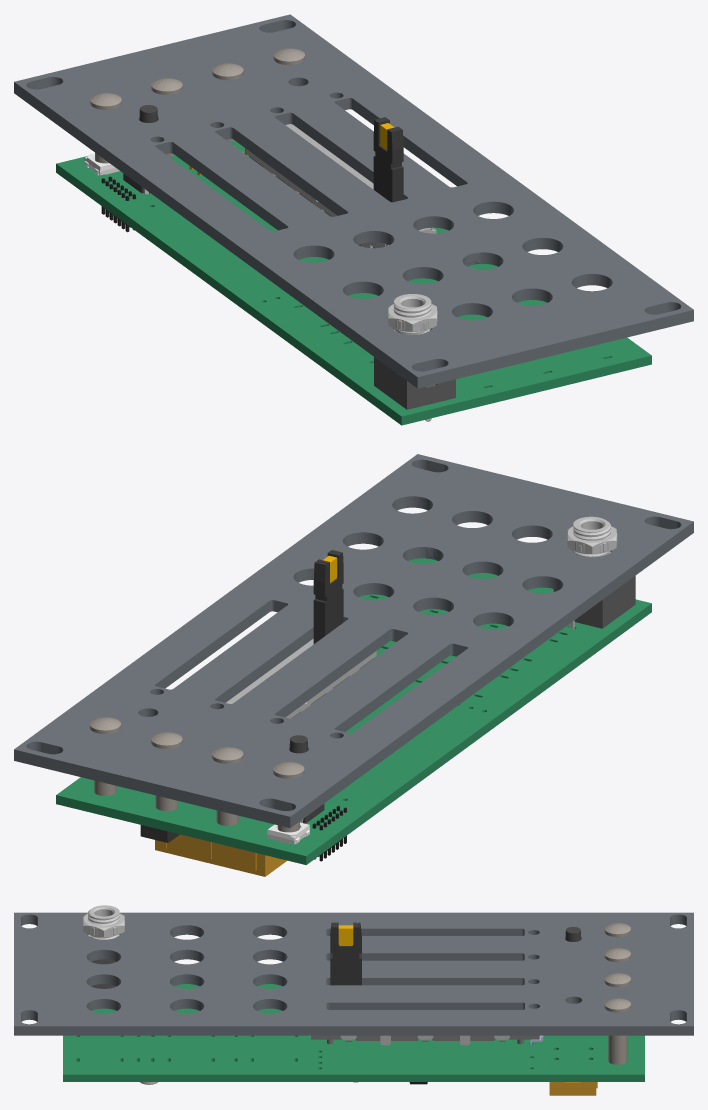
Rendered from aware01_h7_rev2_0_pcb_and_panel.3mf.dae.
The picture shows the model from 3 angles, top to bottom: view 1: azimuth 30°, elevation 25°; view 2: azimuth 150°, elevation 25°; view 3: azimuth 270°, elevation 25°; orthographic projection. The views are drawn at different scales.
Visible parts, largest first — view 1: node0, node6, node57, node31, node59, node29, node32; view 2: node0, node6, node19, node57, node31, node59, node29, node32, node3, node5, node4; view 3: node0, node6, node57, node56, node4, node19, node29, node32, node59, node5, node58, node2 (+1 smaller).
Part boxes in pixels (box(x1,y1,x2,y2)): node0: box(14, 14, 693, 388); node6: box(56, 141, 651, 425); node57: box(373, 117, 403, 202); node31: box(374, 329, 455, 409); node59: box(246, 124, 436, 248); node29: box(393, 294, 431, 334); node32: box(388, 304, 436, 331); node0: box(14, 454, 693, 828); node6: box(56, 558, 651, 864); node19: box(155, 834, 286, 876); node57: box(313, 550, 343, 643); node31: box(553, 552, 635, 628); node59: box(226, 638, 376, 718); node29: box(573, 516, 610, 557); node32: box(567, 526, 616, 554); node3: box(151, 732, 182, 810); node5: box(212, 747, 243, 825); node4: box(89, 717, 120, 795); node0: box(14, 912, 693, 1035); node6: box(63, 984, 644, 1081); node57: box(330, 922, 361, 985); node56: box(311, 1035, 539, 1044); node4: box(604, 998, 630, 1064); node19: box(549, 1082, 597, 1095); node29: box(88, 905, 119, 939); node32: box(83, 913, 124, 937); node59: box(340, 1035, 509, 1045); node5: box(604, 948, 630, 962); node58: box(338, 925, 353, 945); node2: box(604, 923, 630, 937).
Bounding box in the file's own units: 0.0508 × 0.1285 × 0.0334.
